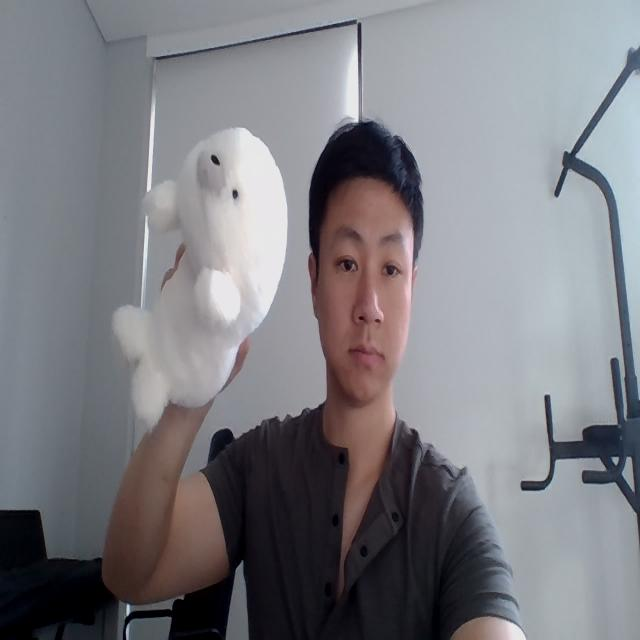seal_bb: (111, 127, 288, 434)
